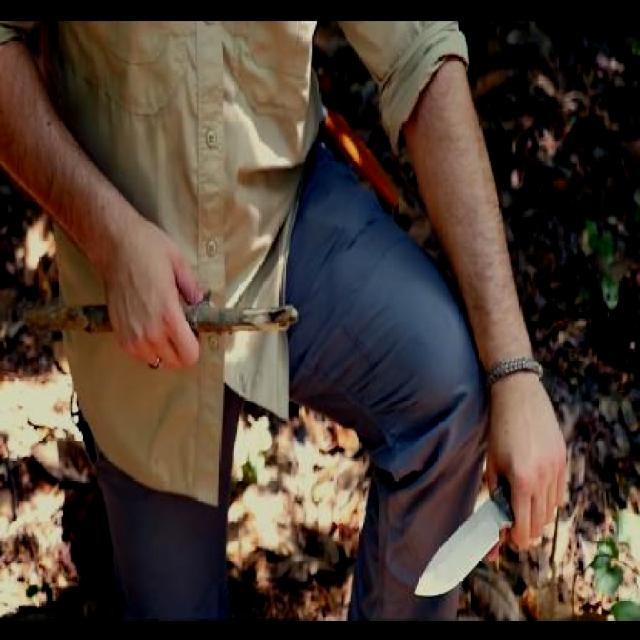knife: (408, 442, 569, 604)
